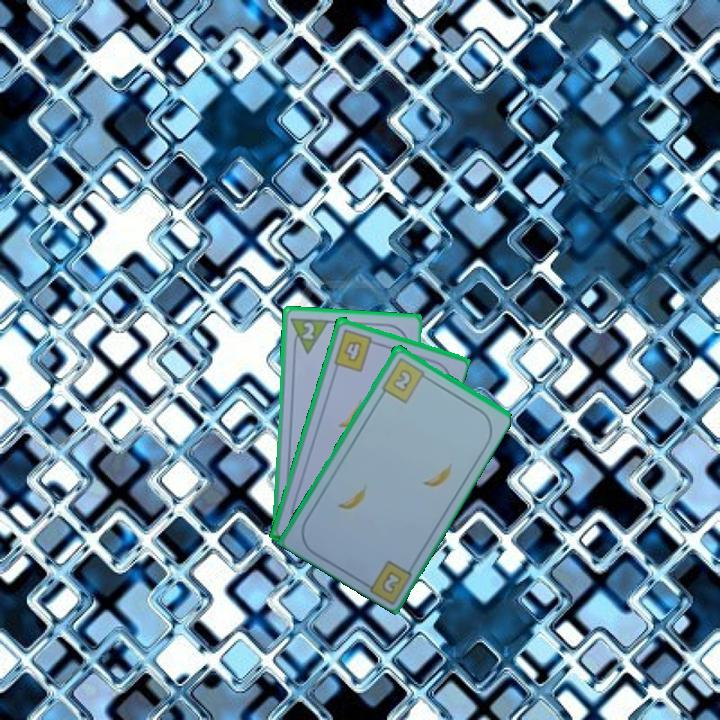2b: (378, 354, 432, 405), (378, 567, 404, 597)
2p: (286, 314, 331, 356)
4b: (330, 325, 381, 374)
